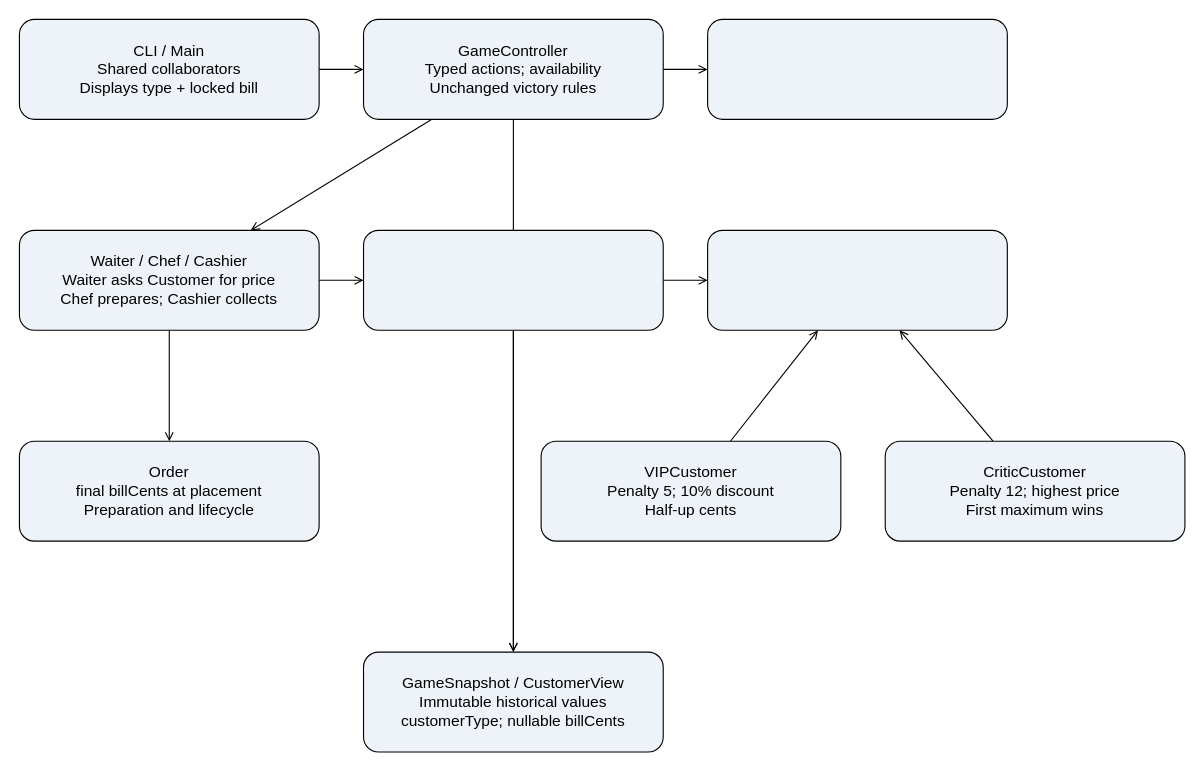
The diagram is 1204 pixels wide and 771 high, and some of its shapes have lost their labels. The centre of each missing label's shape, as x and y in pixels:
"Customer chooseItem / calculateBillCents waitingPenaltyPerTurn: 8" belongs at (x=857, y=279).
"Restaurant Collections, tables, statistics Collects Order locked bill" belongs at (x=512, y=279).
"TurnManager IDs 2: VIP, 5: Critic 18 turns; ordered resolution" belongs at (x=857, y=68).
